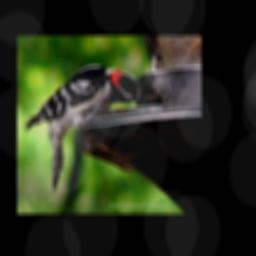Woodpecker: (21, 63, 146, 195)
